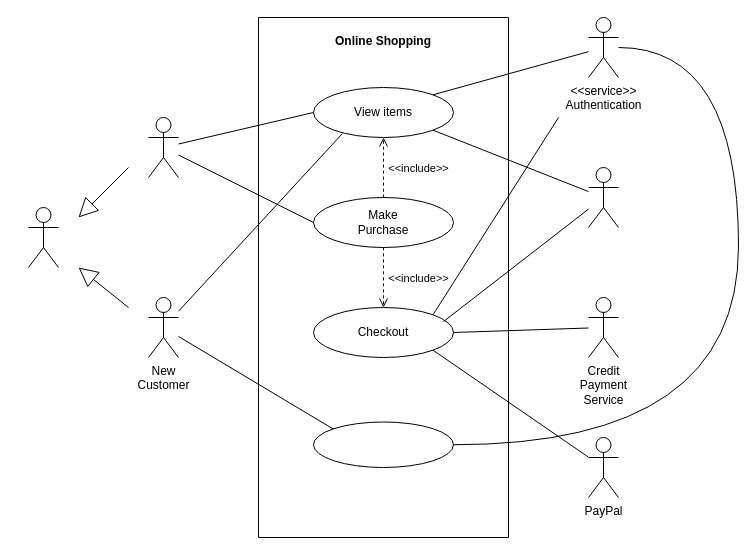
This 756x555 diagram has some shape labels left out. The shapes that lost their labels are listed below. From the top down, each one's centre as x and y in pixels, then its label:
(x=163, y=147): Registered Customer
(x=603, y=197): Identity Provider
(x=43, y=237): Web Customer
(x=383, y=444): Client Register
